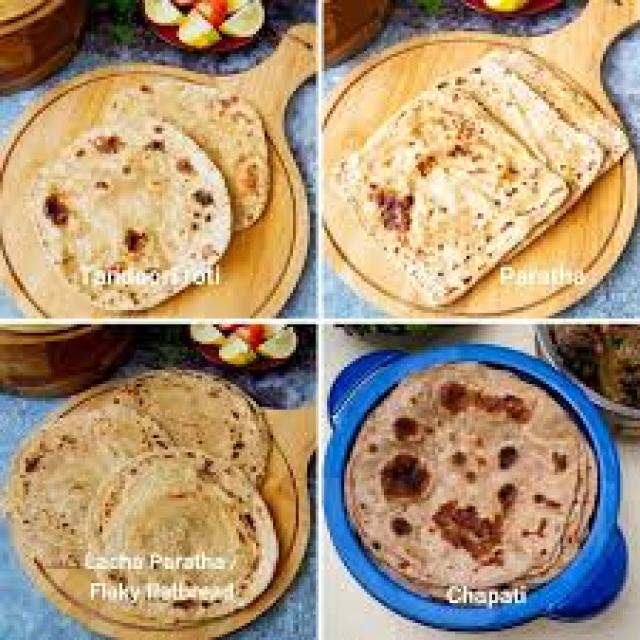ROTI: (334, 44, 623, 307), (9, 374, 283, 637), (347, 351, 589, 593), (32, 81, 265, 305)
